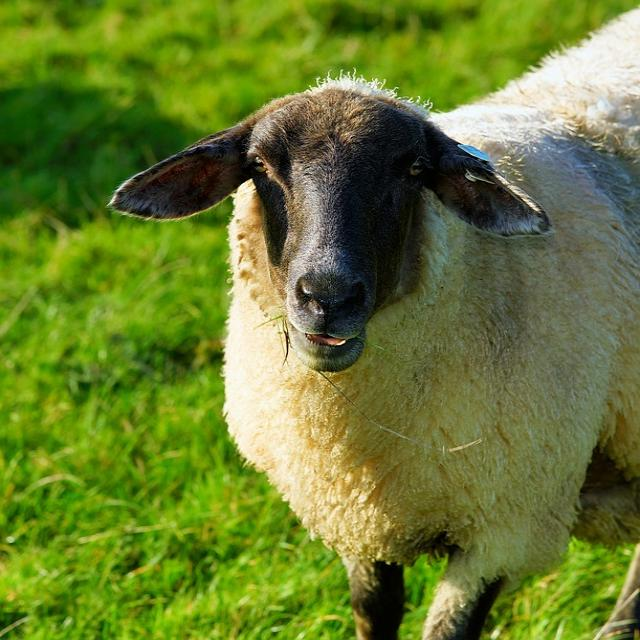goat: (106, 7, 640, 640)
